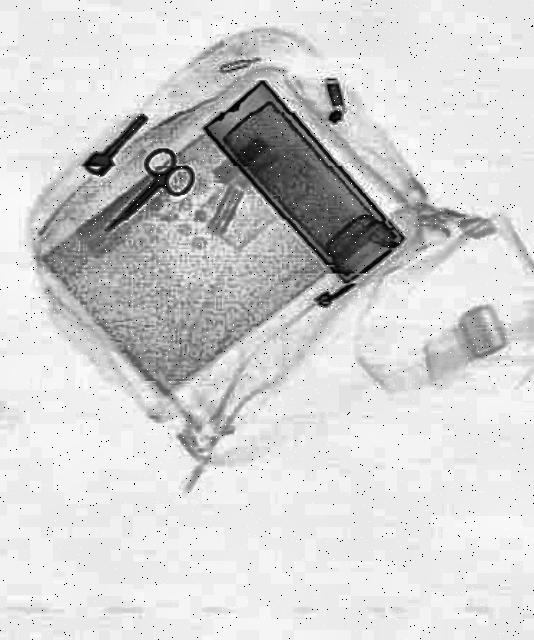Scissors: (94, 135, 202, 249)
